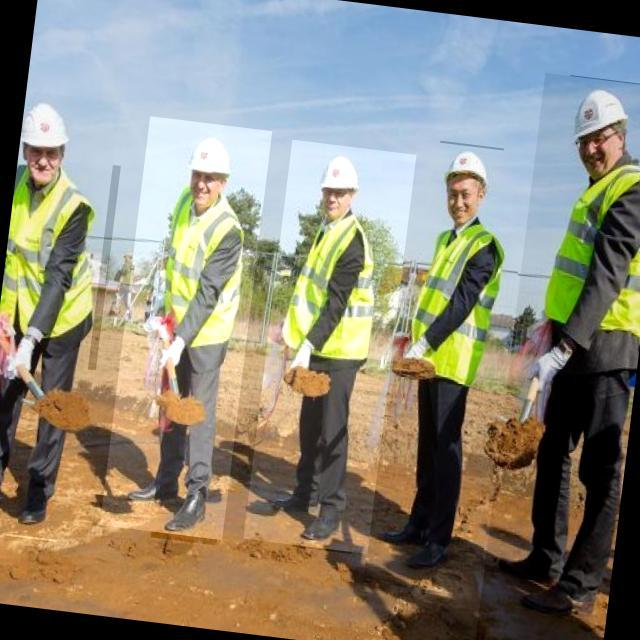Helmet: (560, 74, 640, 163), (432, 141, 503, 213), (18, 92, 82, 166), (306, 146, 377, 211), (174, 126, 244, 190)
Human: (475, 72, 640, 640), (363, 140, 532, 599), (100, 116, 272, 540), (243, 140, 416, 554), (0, 90, 120, 540)
Safety Boot: (508, 547, 611, 630), (489, 525, 573, 599), (151, 465, 225, 545), (114, 445, 191, 521), (264, 454, 335, 522), (5, 463, 65, 542), (291, 486, 358, 554), (393, 520, 463, 584), (371, 497, 434, 551), (0, 452, 8, 530)
Safety Vest: (140, 172, 268, 386), (0, 153, 120, 370), (266, 203, 399, 395), (393, 204, 518, 408)
